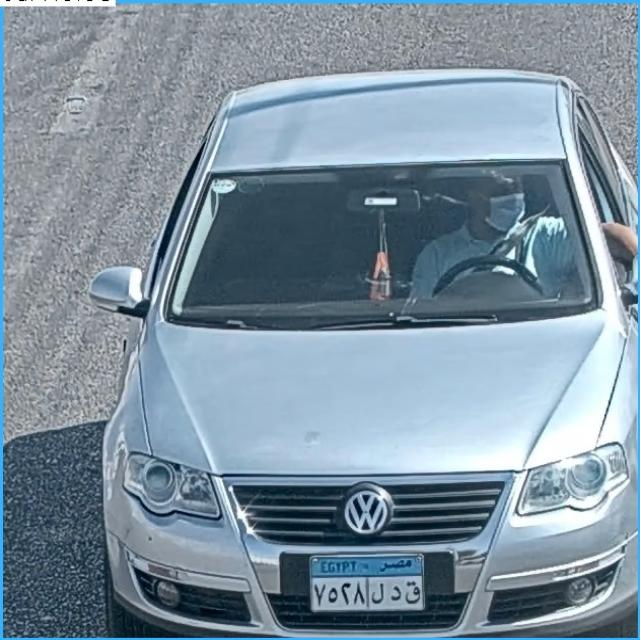windshield: (176, 174, 580, 316)
